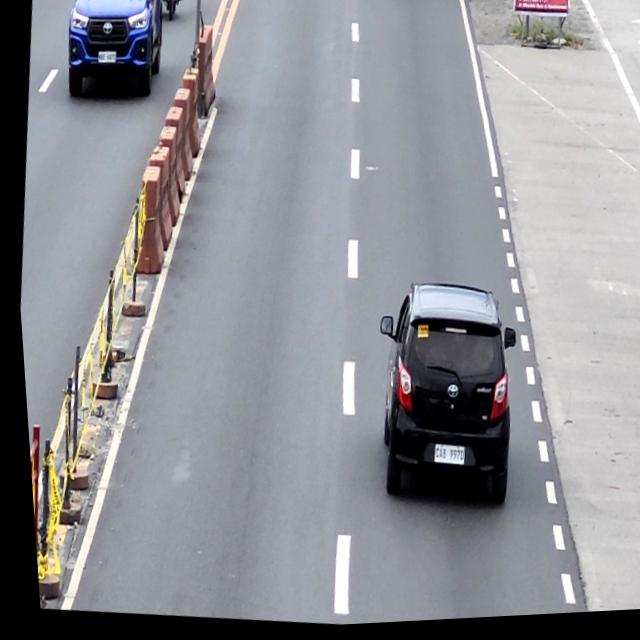Car: (352, 276, 525, 523)
License-Plate: (425, 446, 459, 471)
